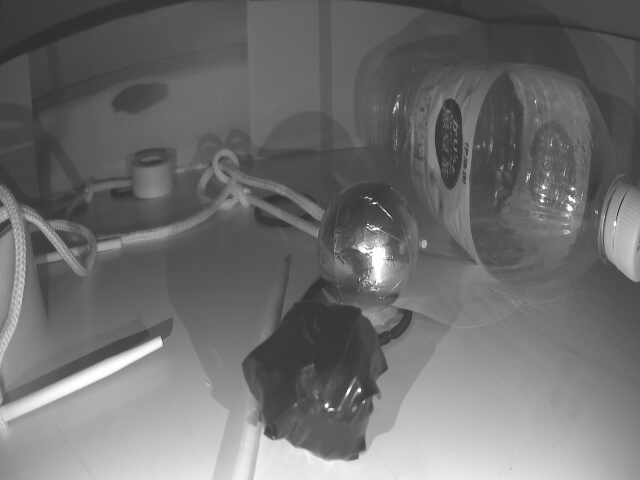Dead: (242, 274, 391, 466)
Live: (312, 178, 421, 311)
